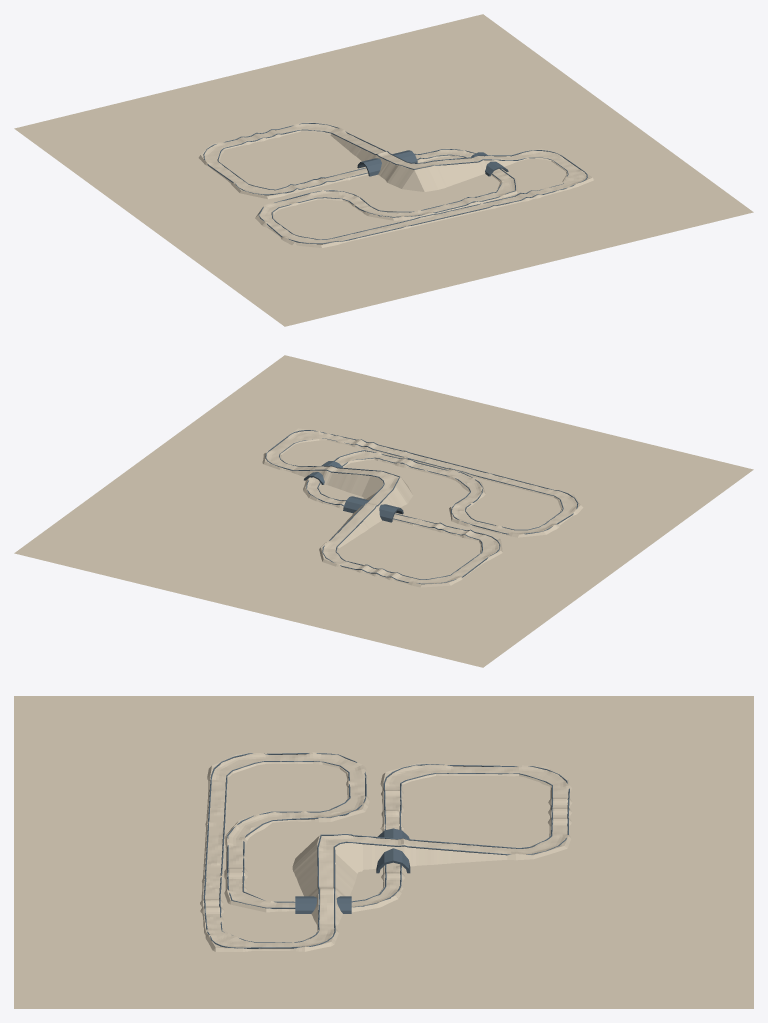
File: courseD.glb
The picture shows the model from 3 angles, top to bottom: view 1: azimuth 30°, elevation 25°; view 2: azimuth 150°, elevation 25°; view 3: azimuth 270°, elevation 25°; orthographic projection. The views are drawn at different scales.
Parts seen in each view (by area): view 1: 平面.001, Course, 円.011; view 2: 平面.001, Course, 円.011, 円.001; view 3: 平面.001, Course, 円.011, 円.001, 円.
Boxes of the visible parts, x1,y1,x2,y2 form: 平面.001: [14, 14, 753, 326]; Course: [198, 121, 594, 247]; 円.011: [203, 123, 587, 244]; 平面.001: [14, 355, 753, 667]; Course: [262, 428, 583, 587]; 円.011: [265, 430, 578, 584]; 円.001: [343, 496, 403, 522]; 平面.001: [14, 696, 753, 1008]; Course: [200, 752, 572, 951]; 円.011: [203, 753, 569, 948]; 円.001: [376, 828, 410, 873]; 円: [295, 896, 351, 913].
Bounding box in the file's own units: 82.5 × 4.29 × 82.5.
